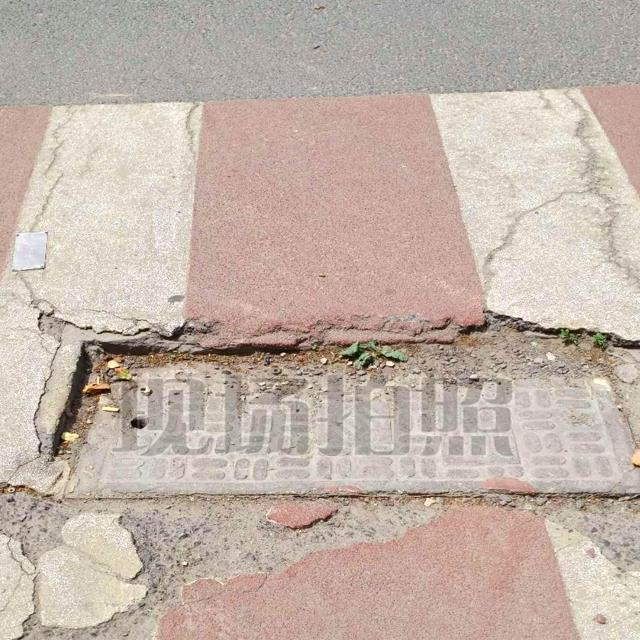circle: (30, 330, 640, 508)
